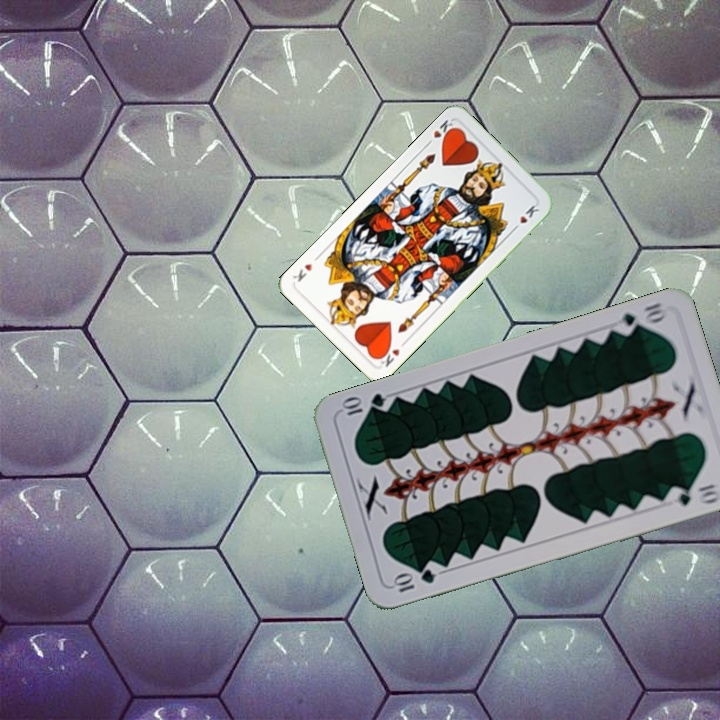G10: (611, 299, 671, 338), (389, 565, 438, 595)
HK: (374, 336, 410, 370), (422, 115, 459, 148)
